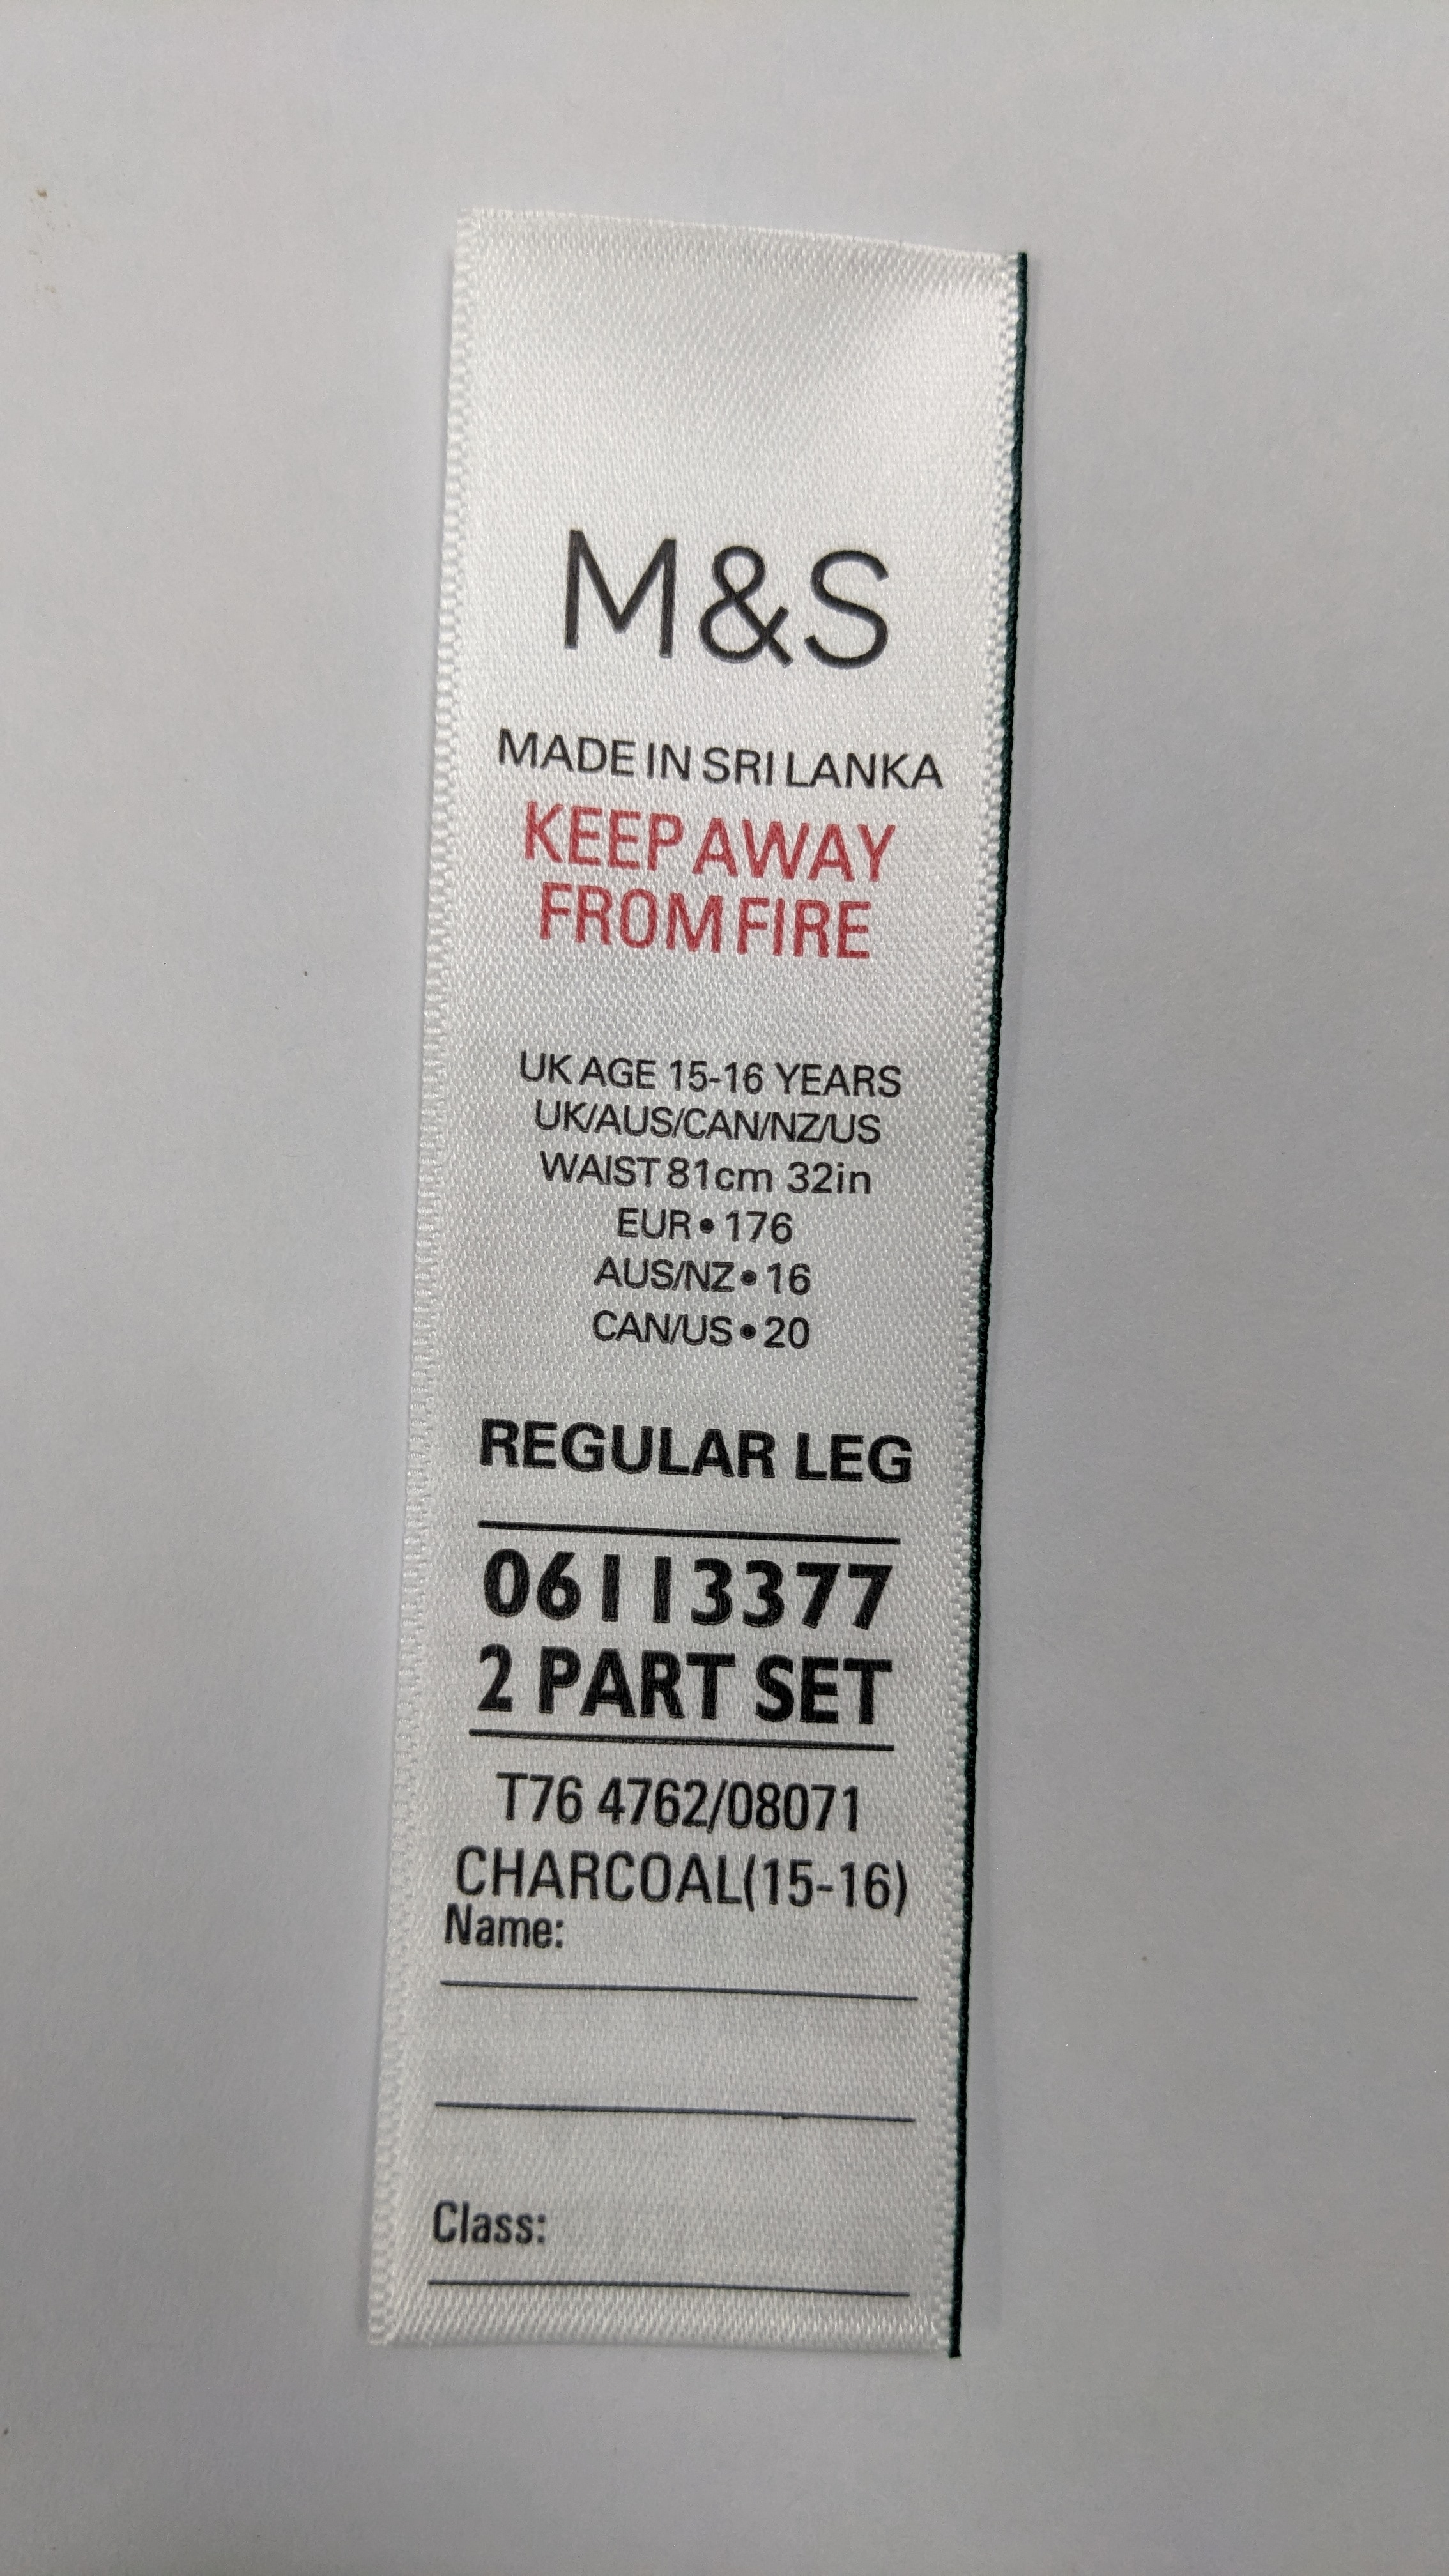Good_label: (303, 138, 1039, 2378)
